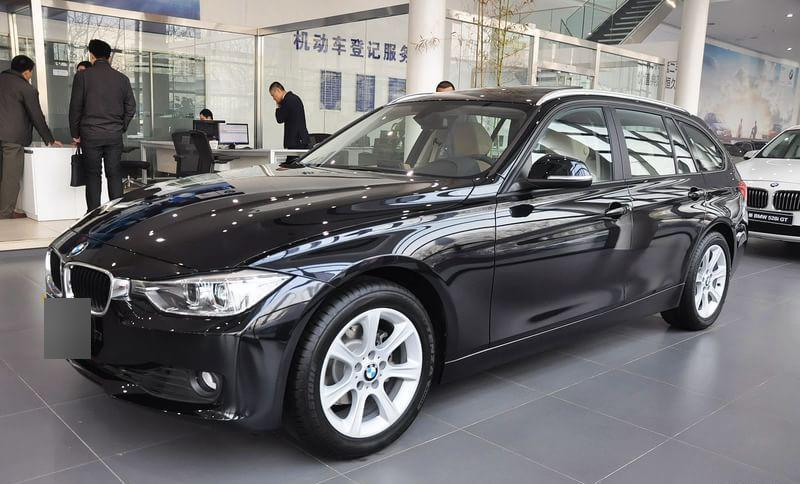Wagon: (43, 83, 750, 461)
